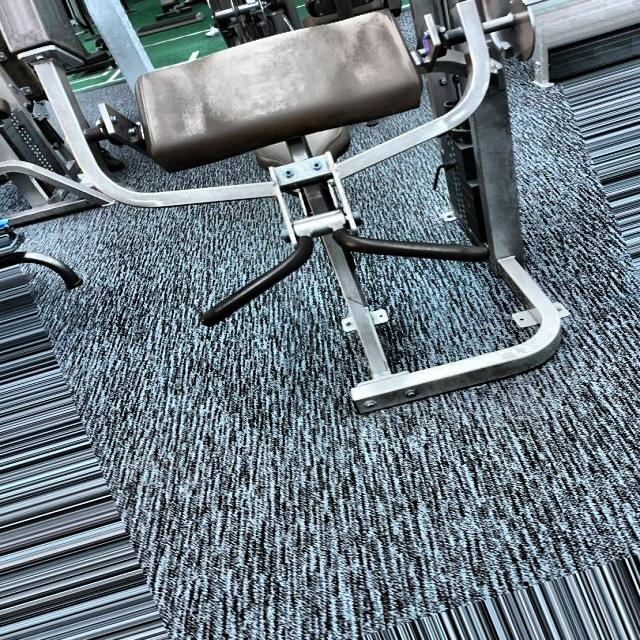bicep_curl_machine: (7, 0, 505, 394)
